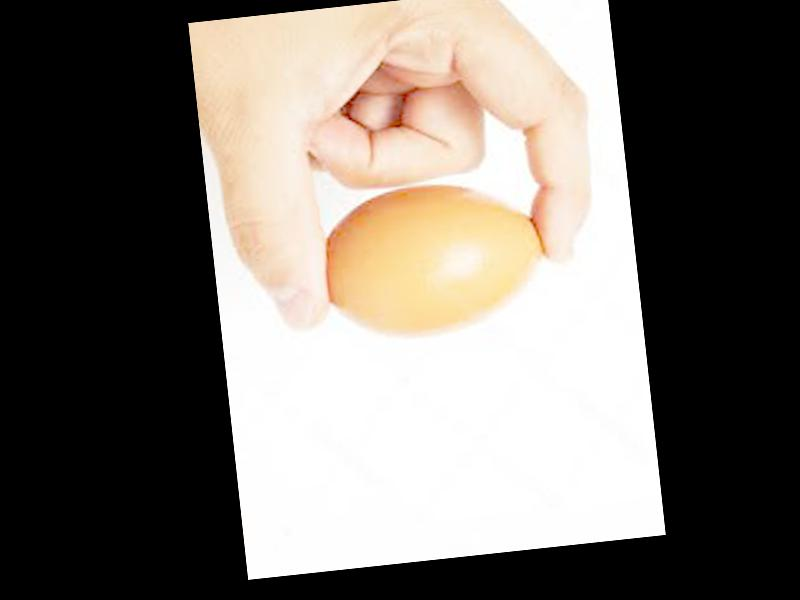Eggs: (317, 172, 554, 347)
